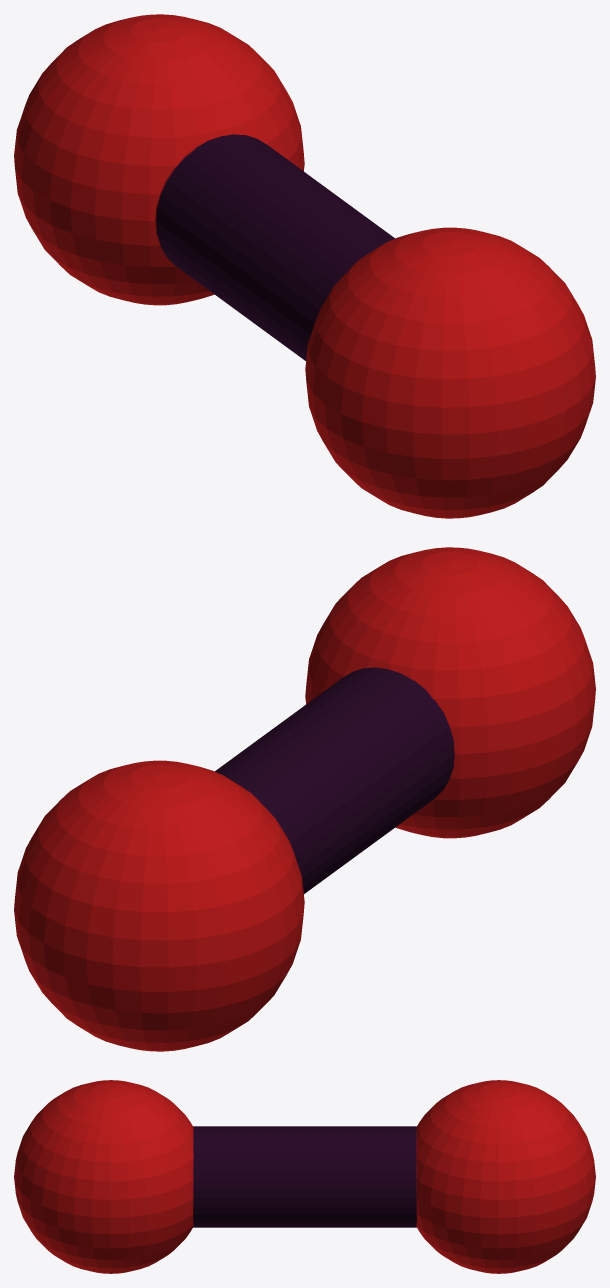
The model's file is 3Dvertex2.fbx.
The picture shows the model from 3 angles, top to bottom: view 1: azimuth 30°, elevation 25°; view 2: azimuth 150°, elevation 25°; view 3: azimuth 270°, elevation 25°; orthographic projection. The views are drawn at different scales.
Visible parts, largest first — view 1: Cylinder; view 2: Cylinder; view 3: Cylinder.
Boxes of the visible parts, x1=… form: Cylinder: x1=14, y1=14, x2=595, y2=518; Cylinder: x1=14, y1=547, x2=595, y2=1051; Cylinder: x1=14, y1=1080, x2=595, y2=1273.
Size of the model in its own units: 200 by 200 by 600.
